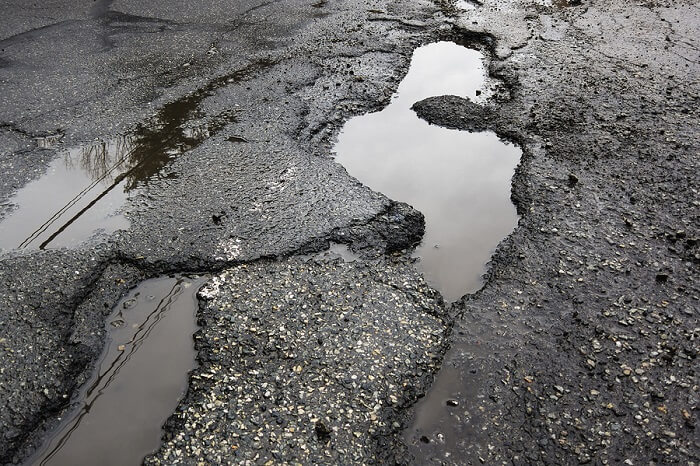pothole: (344, 19, 520, 320), (90, 265, 192, 466), (6, 142, 157, 258), (395, 338, 504, 459)
